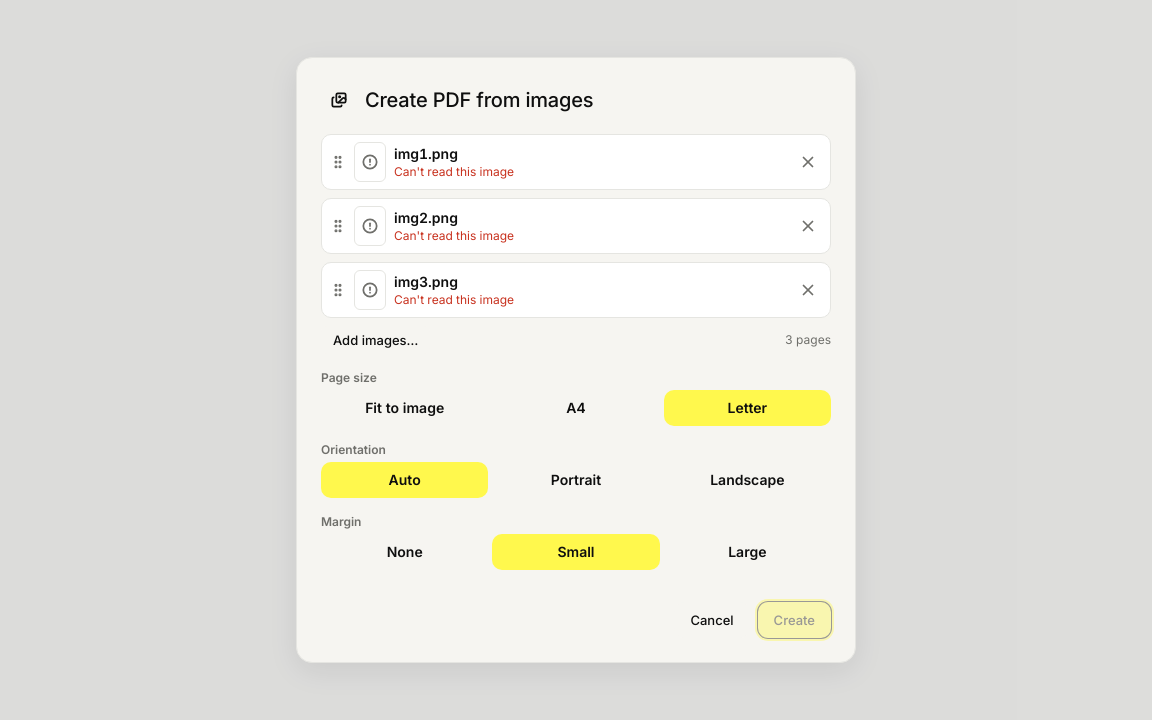
Test: Create PDF from images dialog › blocks Create on an image that cannot be read until it is removed
The width and height of the screenshot is (1152, 720).
What coordinates should you click on to do the following:
click the button named "Remove img1.png"
I would click on:
 (808, 162)
Its box is [794,148,822,176].
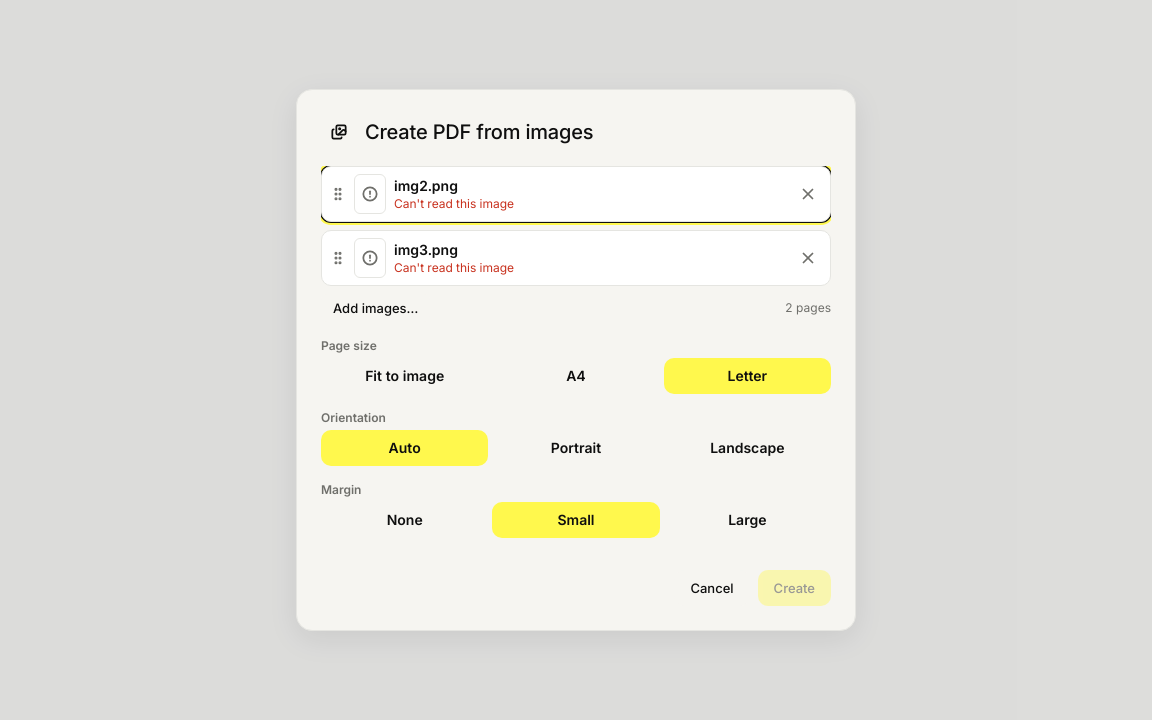
What coordinates should you click on to do the following:
click the button named "Remove img2.png"
I would click on:
 (808, 194)
Its box is [794,180,822,208].
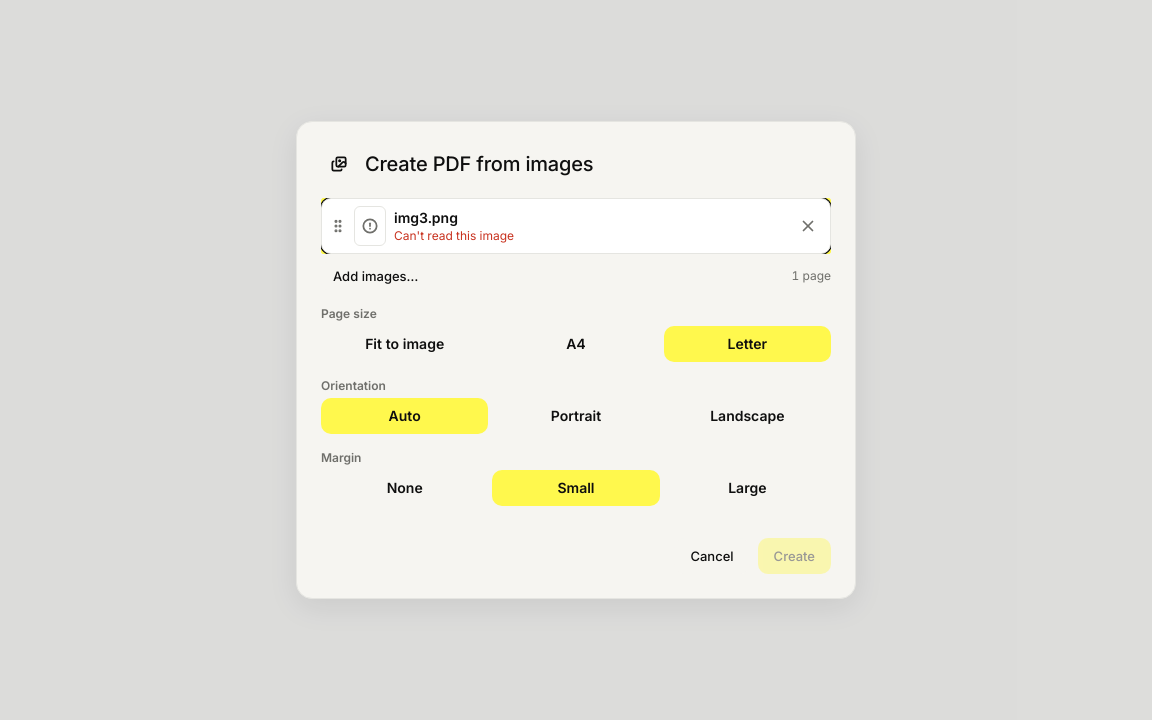
What coordinates should you click on to do the following:
click the button named "Remove img3.png"
I would click on:
 (808, 226)
Its box is [794,212,822,240].
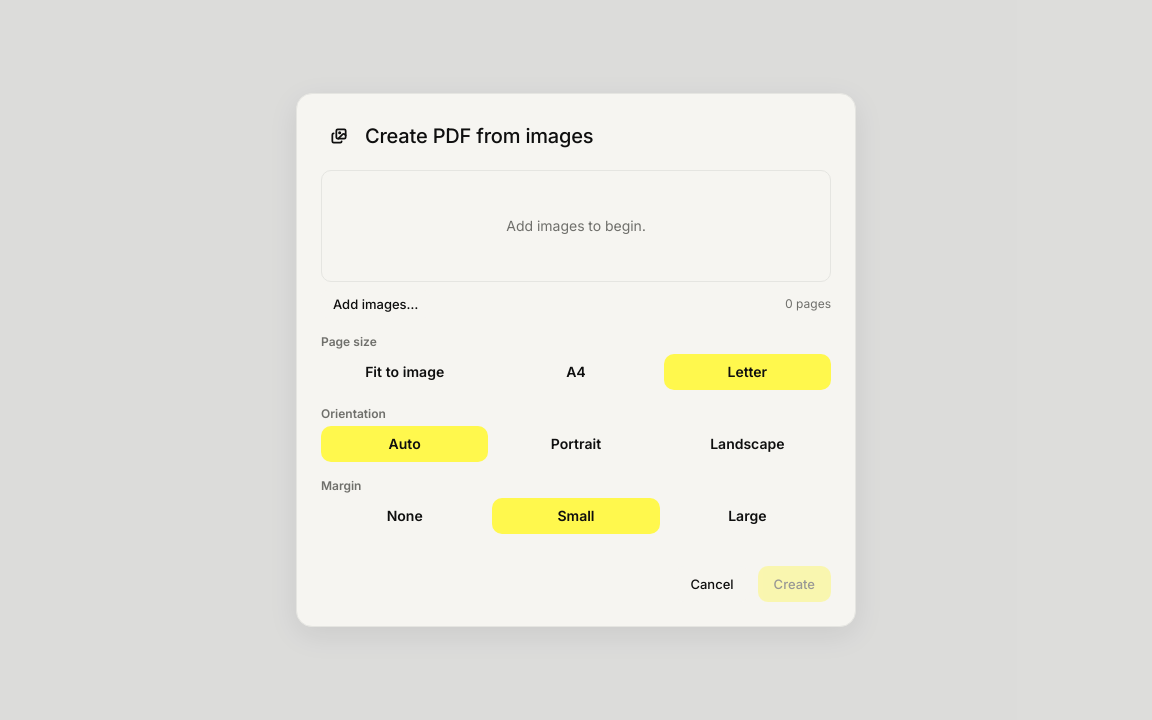
Result: the text "Add images to begin." is shown at [321,170,831,282]
